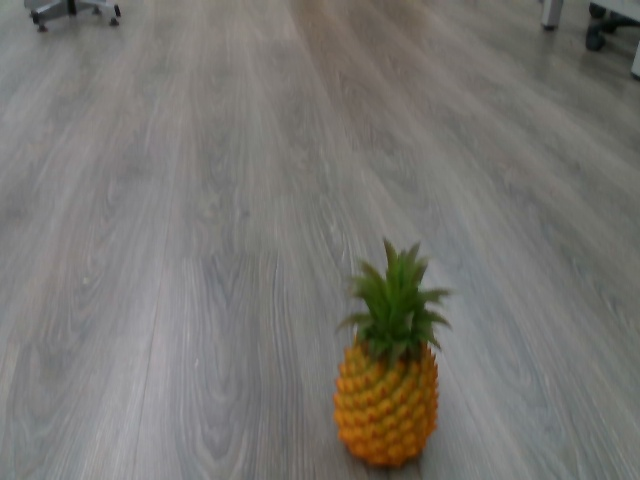pineapple: (327, 235, 457, 469)
